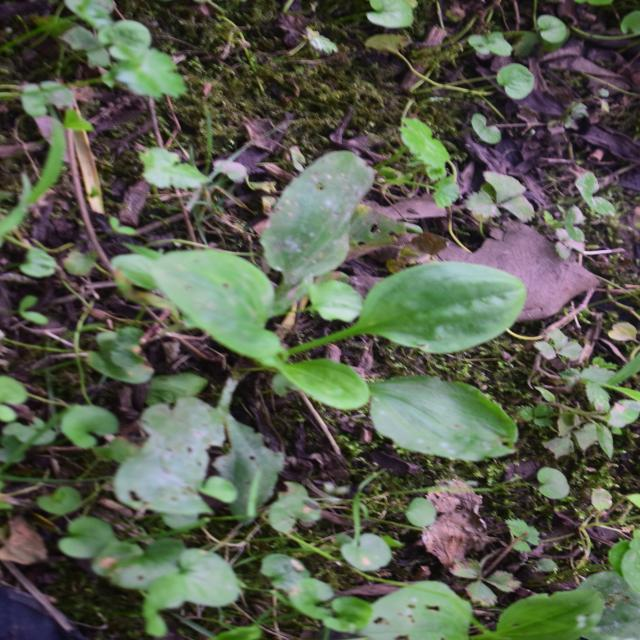plantain: (162, 135, 525, 485)
